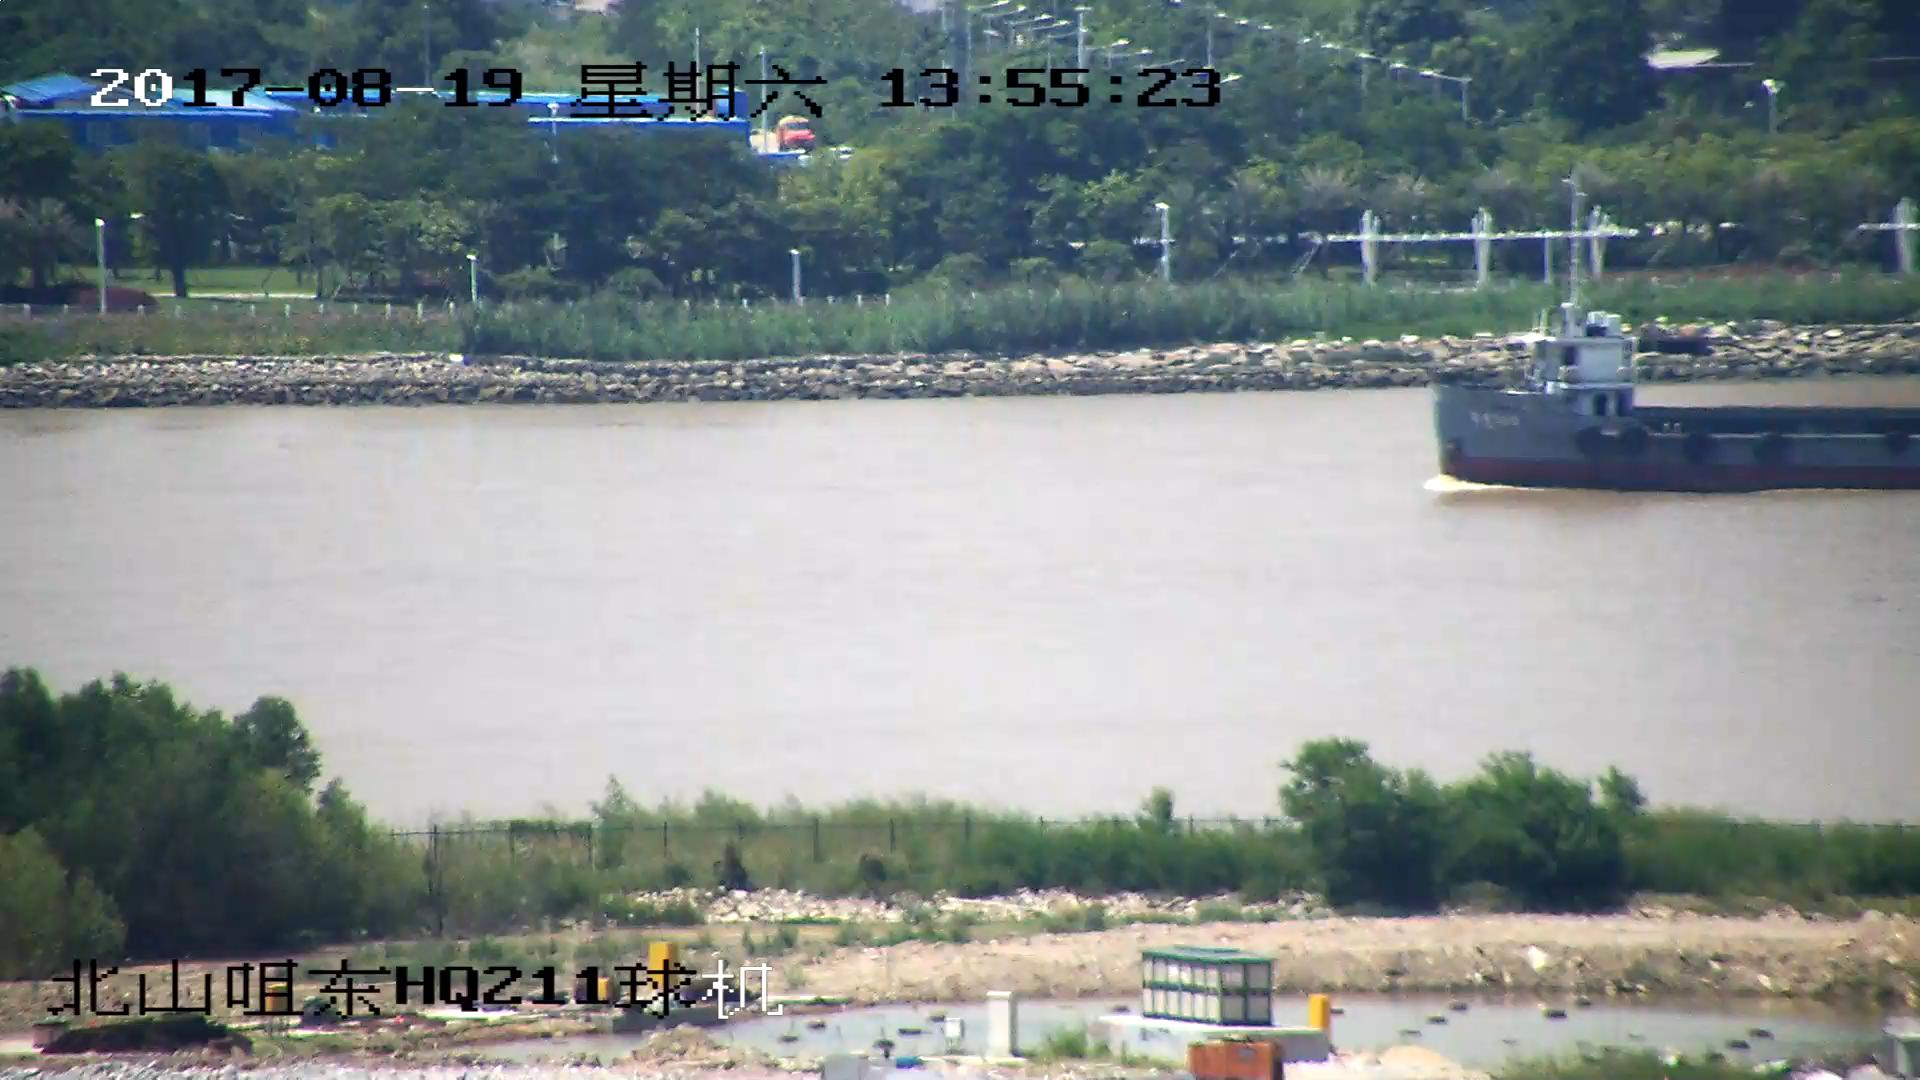general cargo ship: (1434, 337, 1920, 493)
